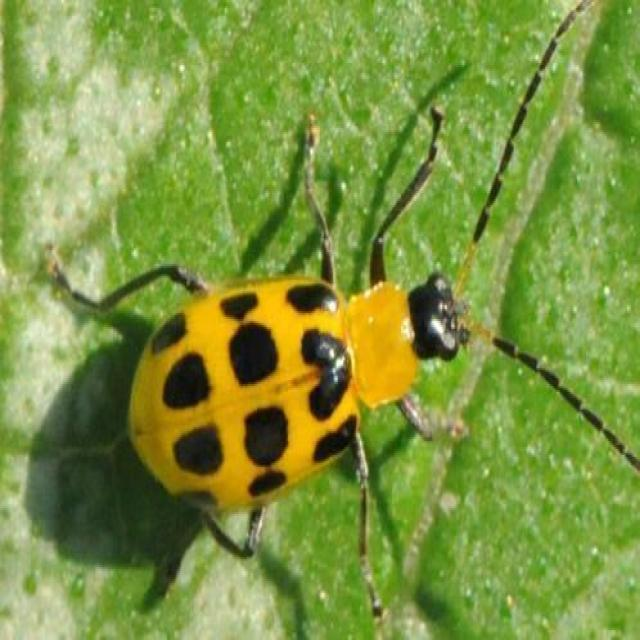gusano_verde: (45, 0, 640, 623)
